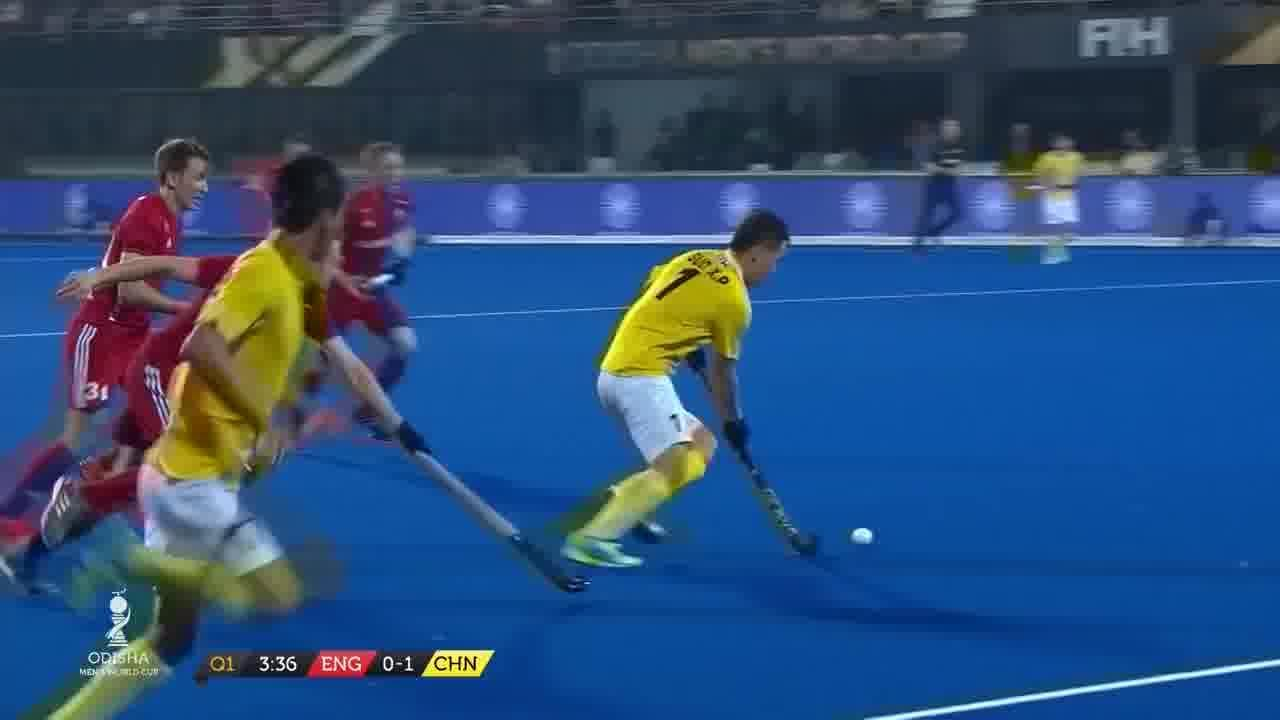ball: (848, 518, 878, 548)
